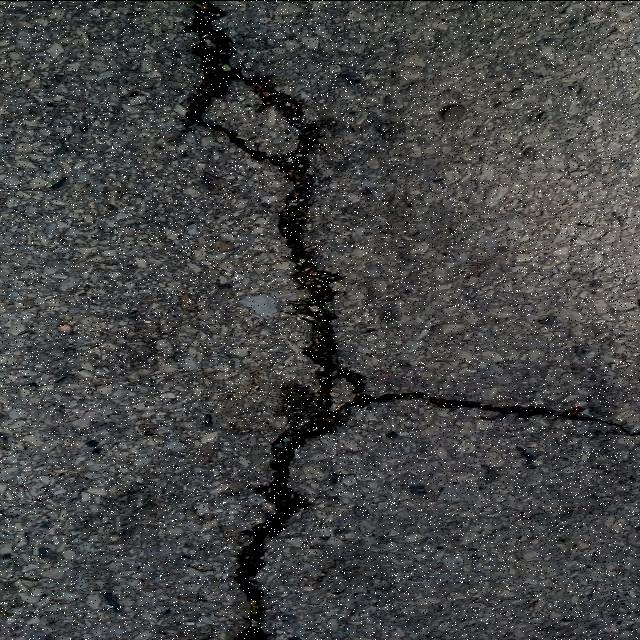Crack: (181, 0, 623, 640)
